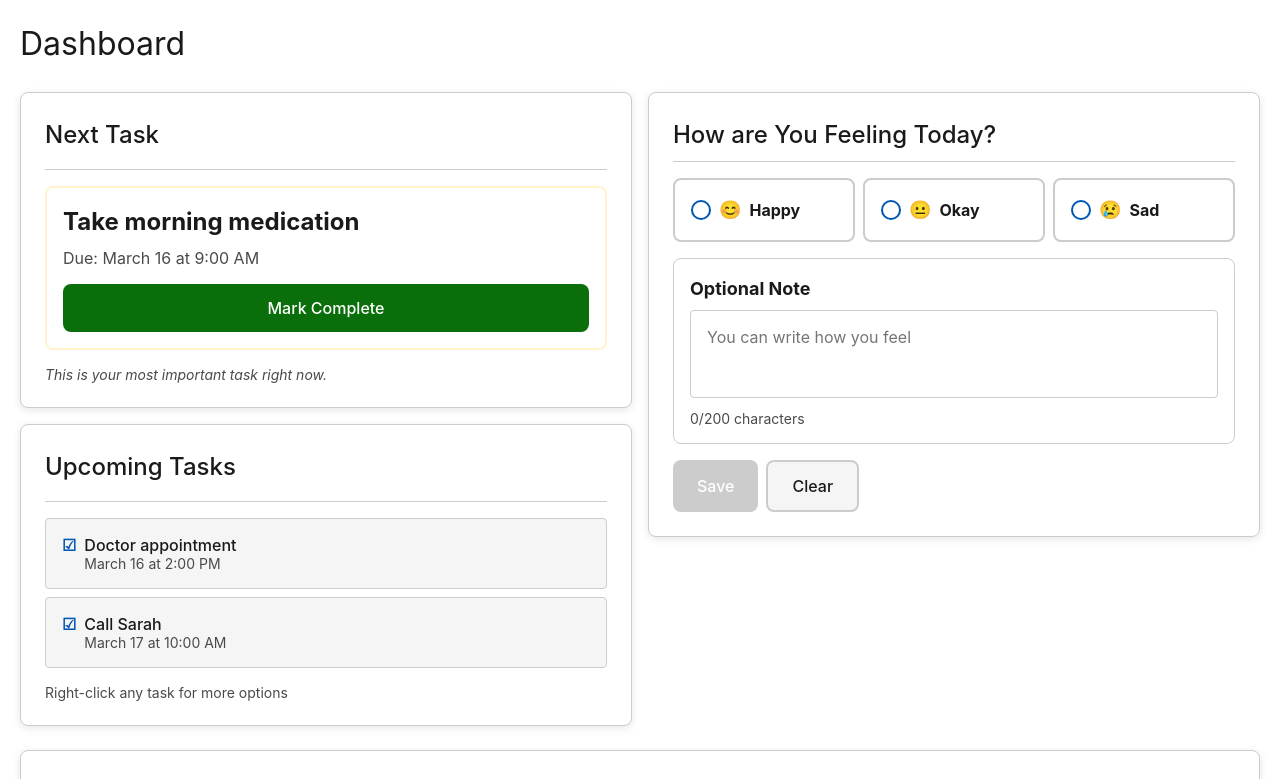
Test case: DashboardView › saves mood and shows confirmation message
This screenshot has width=1280, height=779.
Click the button with aria-label "Select mood Happy" at (764, 210), box top-left (673, 178), bottom-right (855, 242)
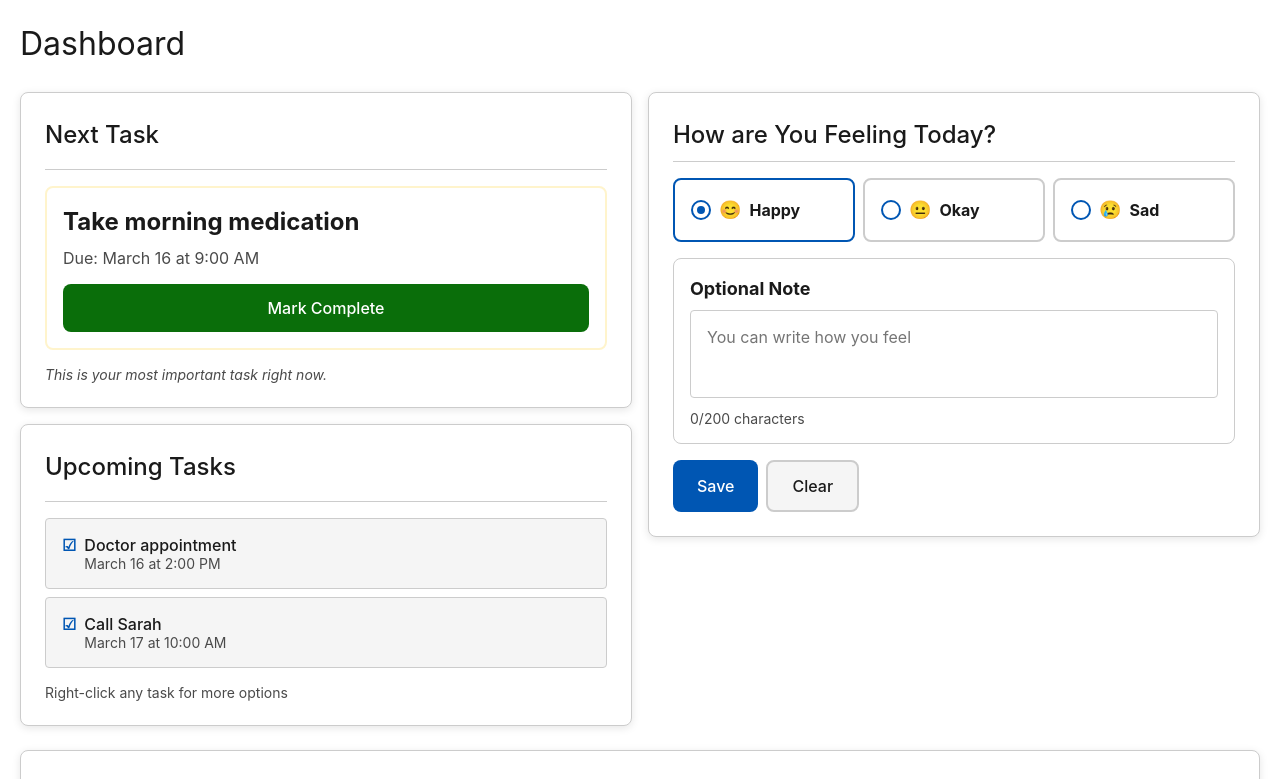
Click the button with aria-label "Save selected mood" at (716, 486), box top-left (673, 460), bottom-right (758, 512)
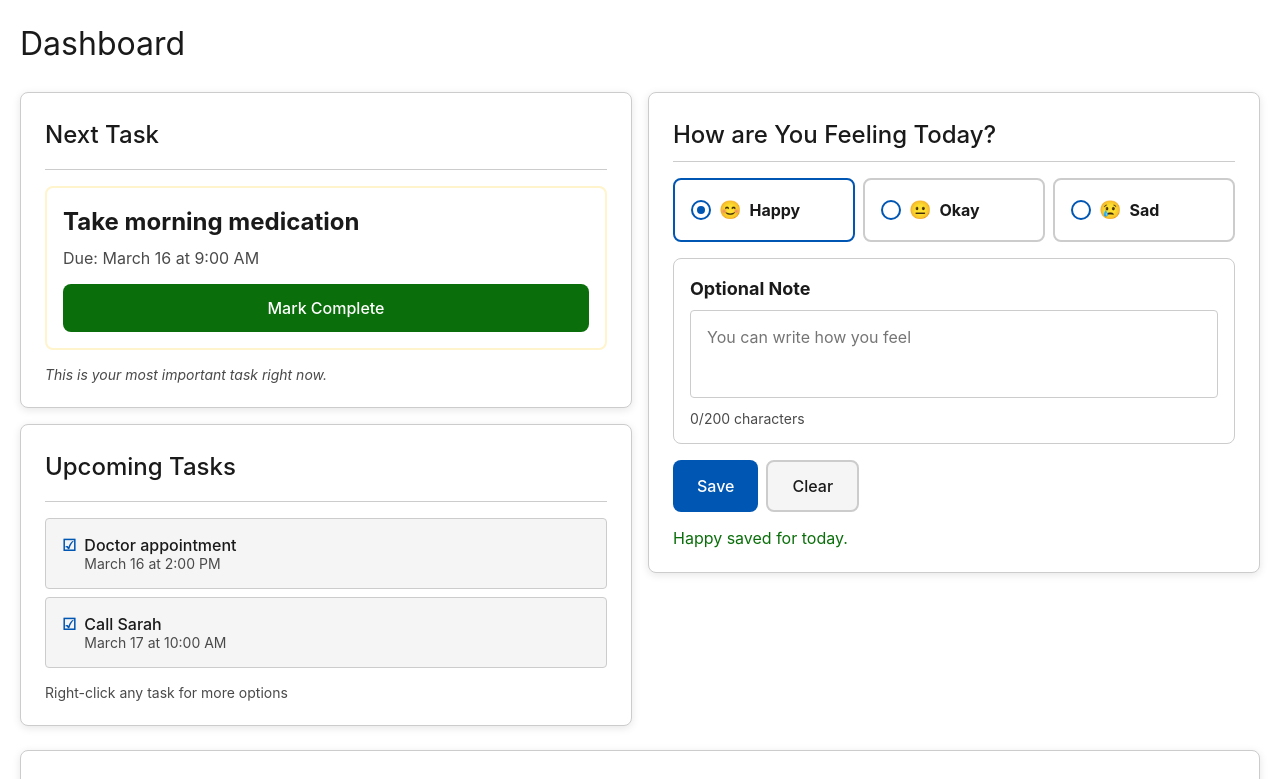
expect the text "Happy saved for today." is shown: met, box top-left (673, 528), bottom-right (848, 548)
